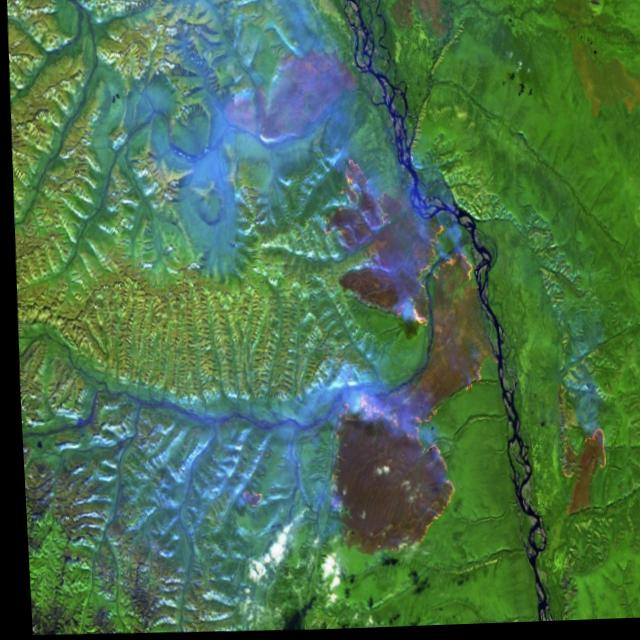fire: (296, 139, 517, 571), (540, 420, 615, 489), (220, 465, 269, 522)
